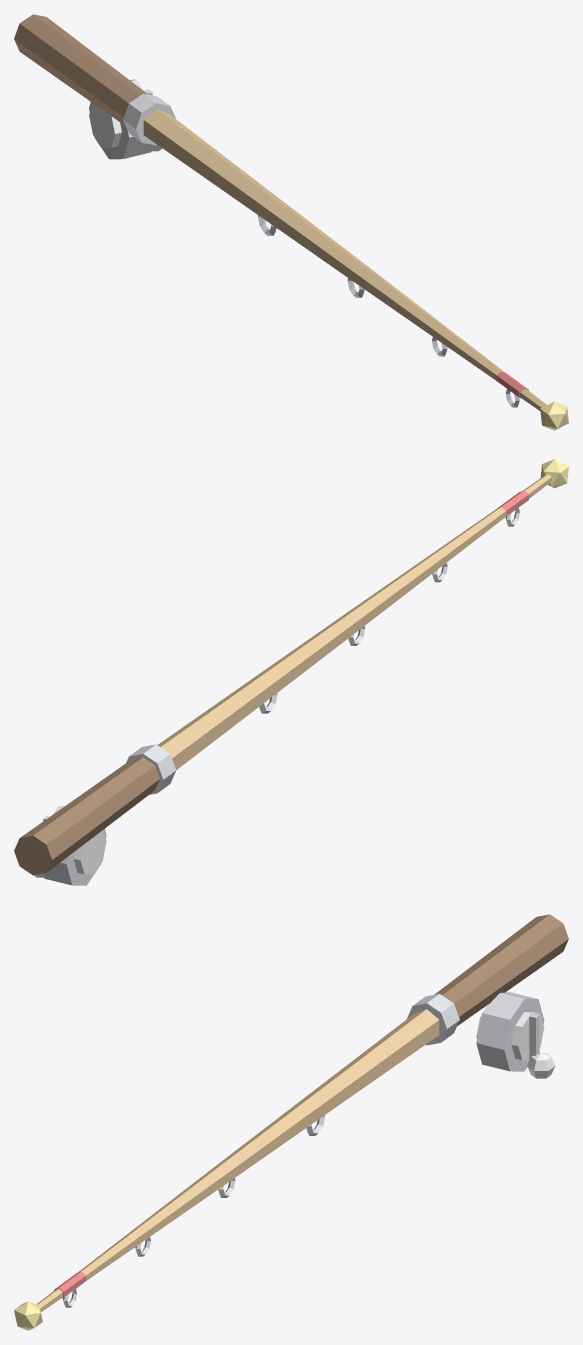
The model's file is Rod_1.fbx.
3 views of the same model, one above another, from view 1: azimuth 30°, elevation 25°; view 2: azimuth 150°, elevation 25°; view 3: azimuth 330°, elevation 25° (orthographic).
Parts seen in each view (by area): view 1: Rod_A, Handle, Rod_B, Ferrule, Reel_Spool, Reel_Body, Orb; view 2: Handle, Rod_A, Rod_B, Ferrule, Reel_Spool, Reel_Body, Orb; view 3: Rod_A, Handle, Rod_B, Reel_Body, Ferrule, Reel_Spool, Orb, Reel_Knob.
Part boxes in pixels (x1,y1,x2,y2): Rod_A: (143,109,363,277); Handle: (14,14,148,125); Rod_B: (348,261,546,410); Ferrule: (123,93,175,145); Reel_Spool: (89,103,121,148); Reel_Body: (89,79,153,159); Orb: (540,401,568,430); Handle: (14,757,159,875); Rod_A: (157,609,364,769); Rod_B: (349,474,551,625); Ferrule: (126,744,176,794); Reel_Spool: (73,830,106,874); Reel_Body: (43,806,106,885); Orb: (540,459,568,488); Rod_A: (219,1009,439,1177); Handle: (434,914,568,1025); Rod_B: (37,1161,234,1312); Reel_Body: (476,992,544,1071); Ferrule: (407,993,459,1045); Reel_Spool: (476,1011,544,1060); Orb: (14,1301,42,1330); Reel_Knob: (527,1053,555,1078).
Bounding box in the file's own units: 0.1551 × 0.178 × 1.63.
